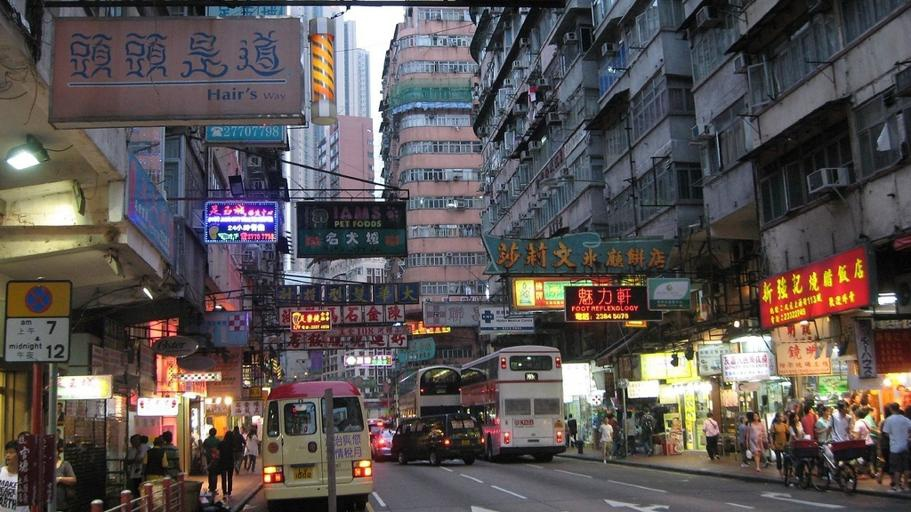non-vehicle: (808, 438, 857, 494), (776, 440, 810, 489)
